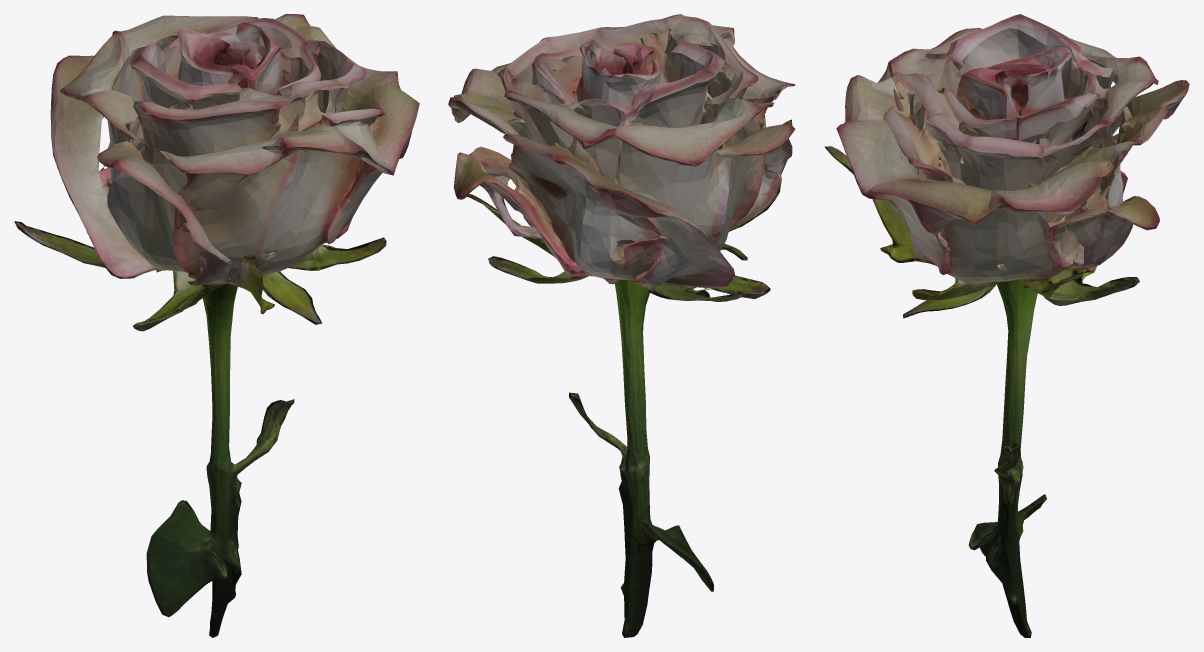
The picture shows the model from 3 angles, left to right: view 1: azimuth 30°, elevation 25°; view 2: azimuth 150°, elevation 25°; view 3: azimuth 270°, elevation 25°; orthographic projection. The views are drawn at different scales.
Visible parts, largest first — view 1: world; view 2: world; view 3: world.
Part boxes in pixels (left/top/right/bottom): world: left=14, top=14, right=419, bottom=637; world: left=448, top=14, right=795, bottom=637; world: left=824, top=14, right=1189, bottom=637.
Size of the model in its own units: 0.5519 by 0.9416 by 0.5321.
1 material, 1 textured.
